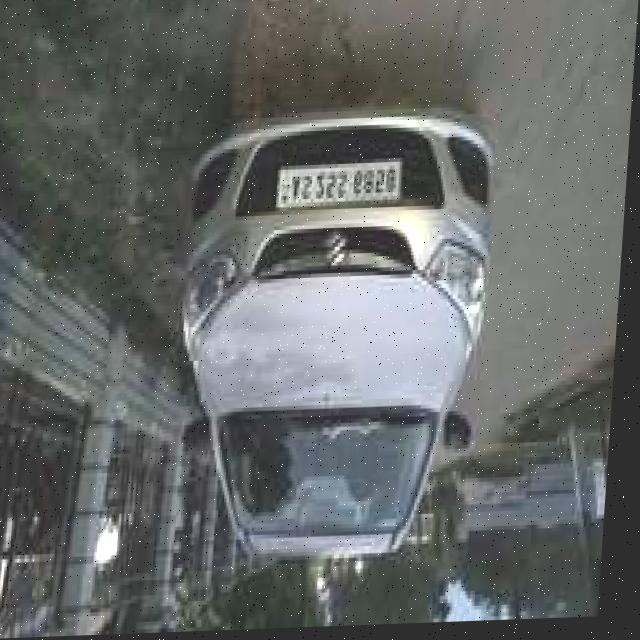plate: (276, 159, 405, 218)
